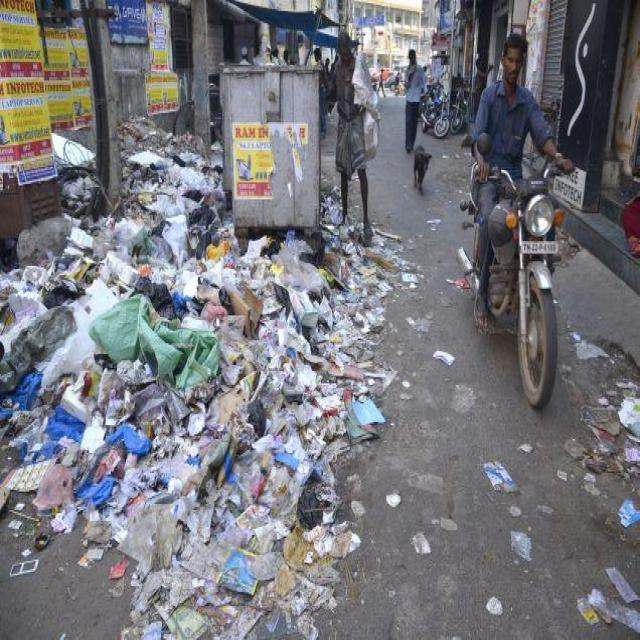plastic: (3, 144, 405, 639)
